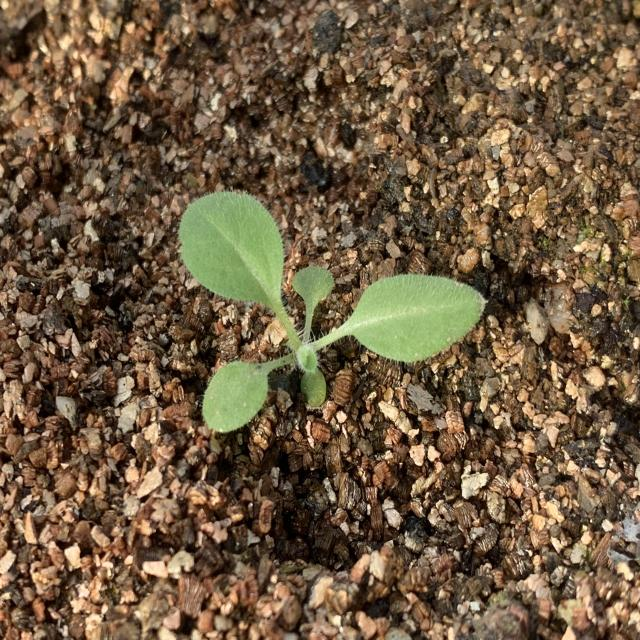horseweed: (148, 184, 486, 420)
